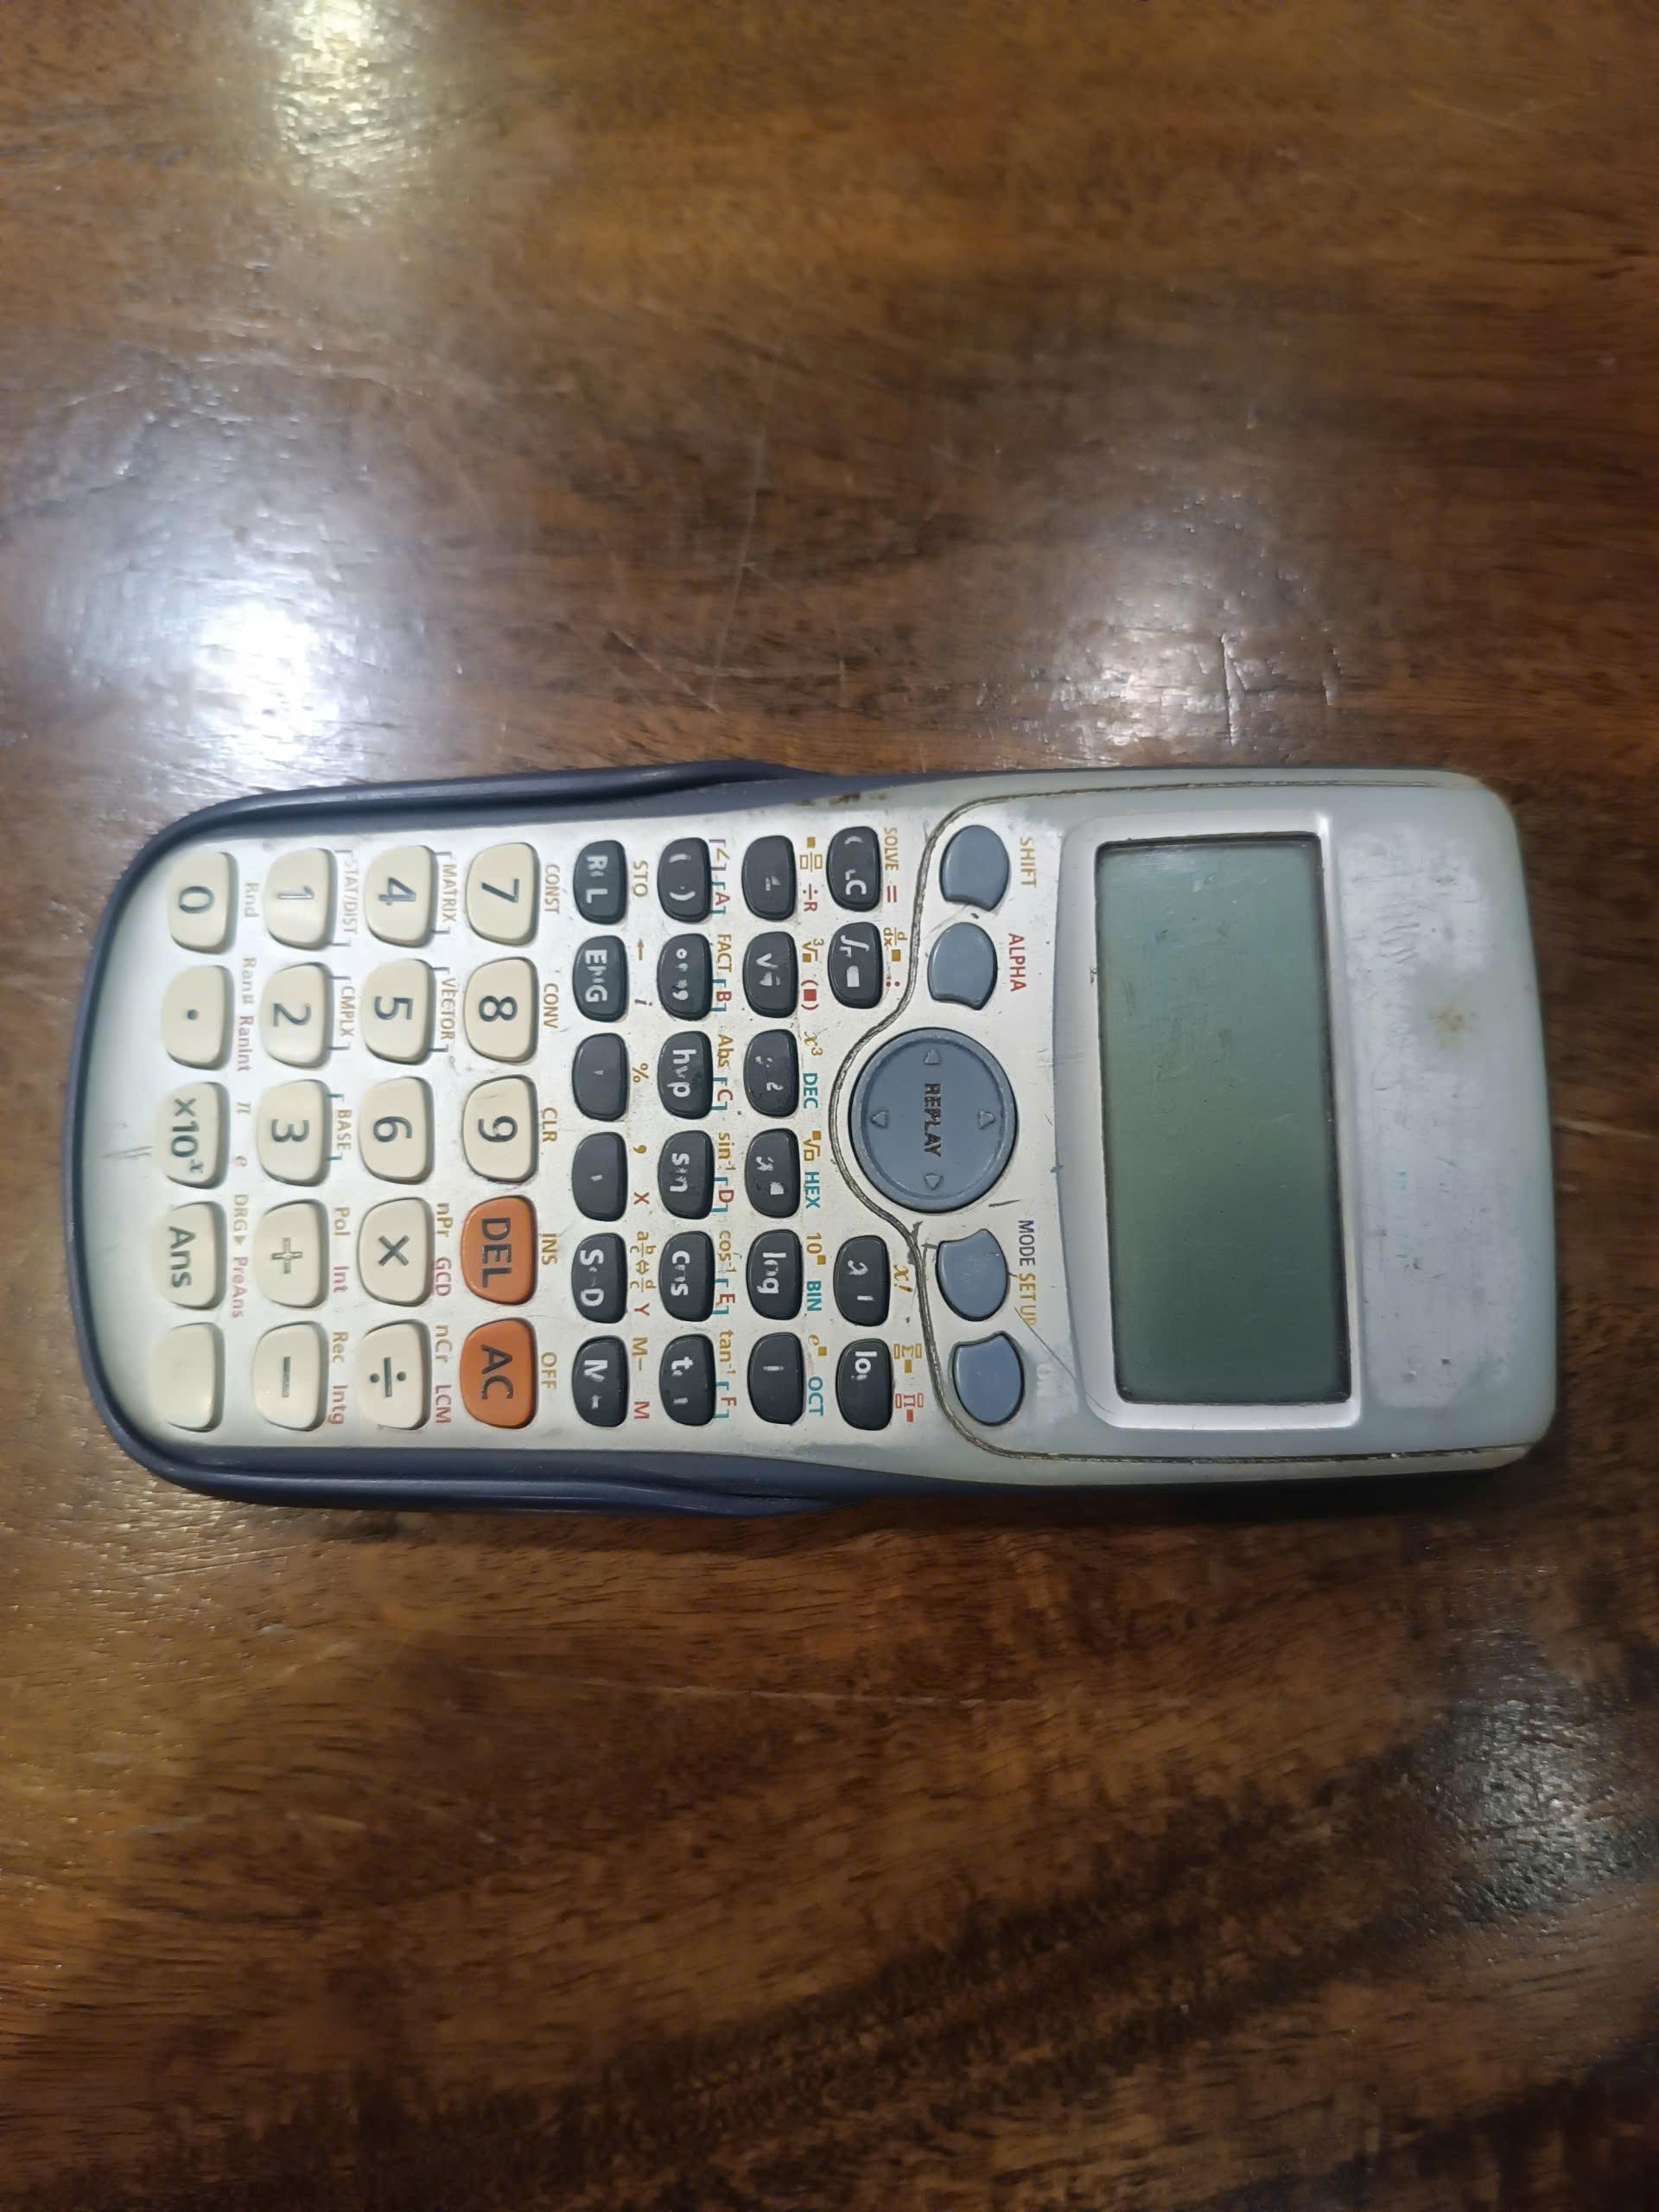Con lai: (73, 758, 1561, 1501)
